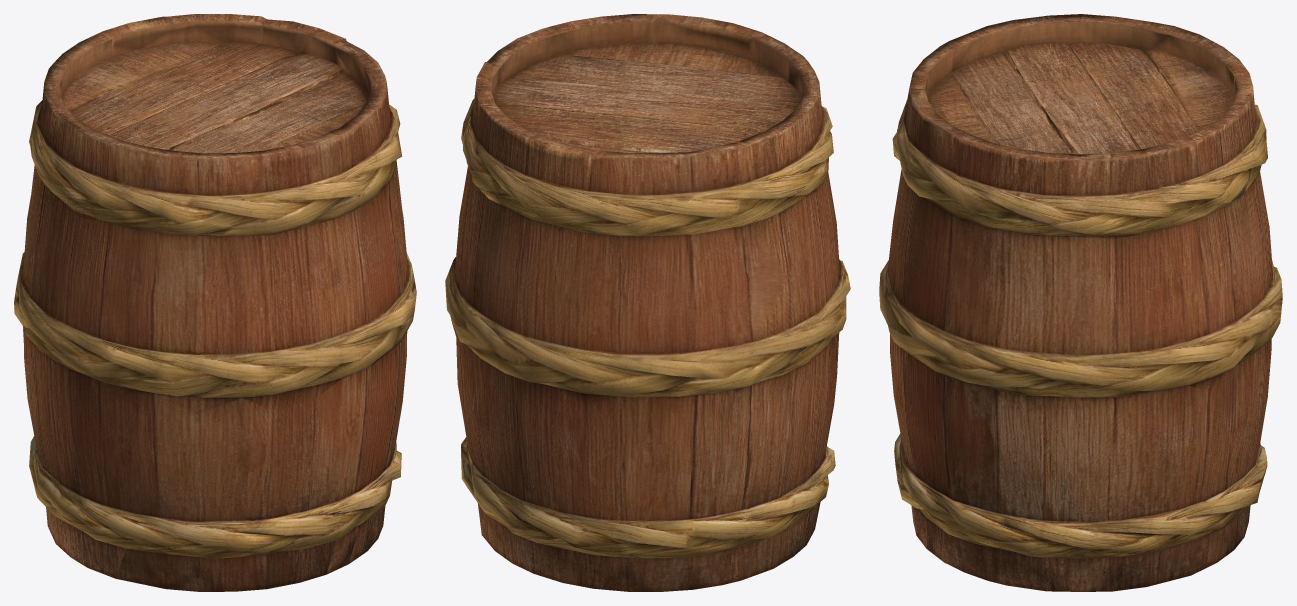
The model's file is village_barrel.glb.
The picture shows the model from 3 angles, left to right: view 1: azimuth 30°, elevation 25°; view 2: azimuth 150°, elevation 25°; view 3: azimuth 270°, elevation 25°; orthographic projection.
Parts seen in each view (by area): view 1: wooden barrel 3d model; view 2: wooden barrel 3d model; view 3: wooden barrel 3d model.
Boxes of the visible parts, x1,y1,x2,y2 form: wooden barrel 3d model: (14,14,416,591); wooden barrel 3d model: (445,14,850,591); wooden barrel 3d model: (879,14,1282,591).
Bounding box in the file's own units: 0.6713 × 0.8 × 0.6727.
1 material, 1 textured.
